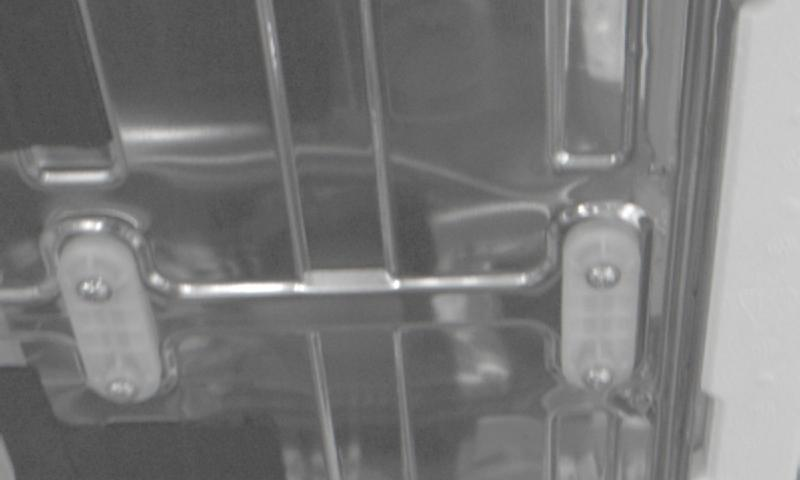vida-ok: (73, 270, 119, 314), (582, 253, 628, 296), (96, 372, 141, 412), (579, 359, 625, 398)
